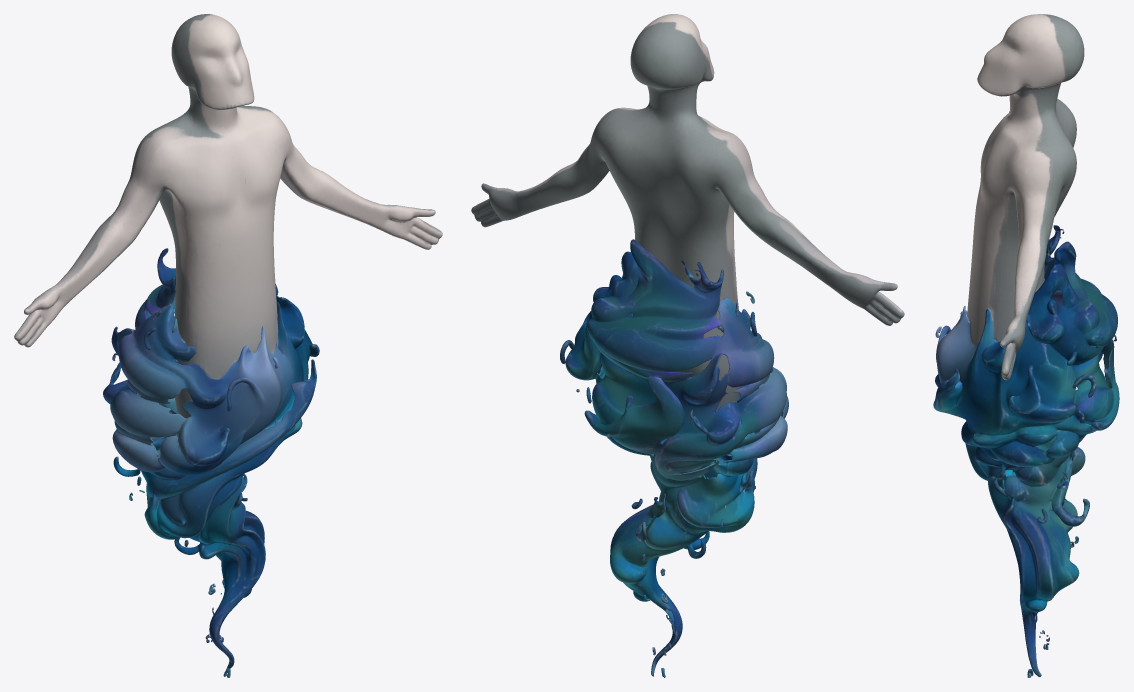
The picture shows the model from 3 angles, left to right: view 1: azimuth 30°, elevation 25°; view 2: azimuth 150°, elevation 25°; view 3: azimuth 270°, elevation 25°; orthographic projection.
Parts seen in each view (by area): view 1: world; view 2: world; view 3: world.
Boxes of the visible parts, x1=… form: world: x1=14, y1=14, x2=442, y2=677; world: x1=471, y1=14, x2=904, y2=677; world: x1=933, y1=14, x2=1119, y2=677.
Size of the model in its own units: 0.6811 by 1 by 0.2579.
1 material, 1 textured.
